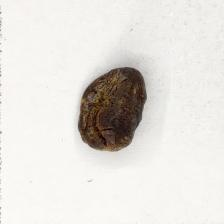NG: (80, 67, 147, 150)
